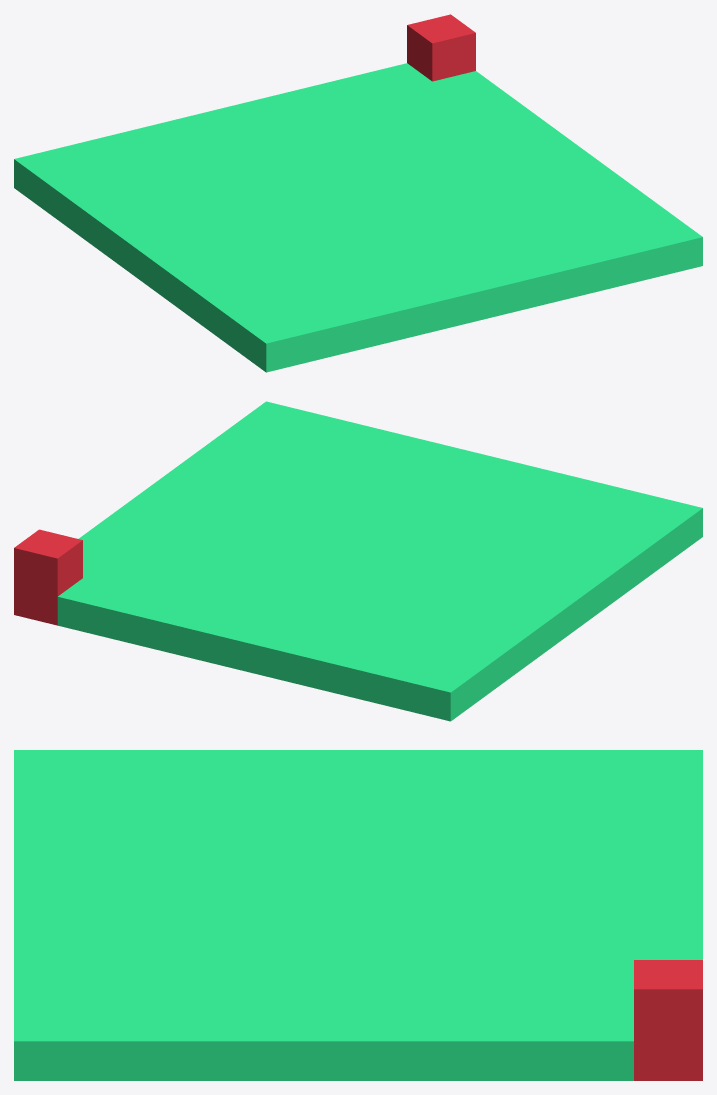
File: innerCorner.fbx
3 renders of one model, top to bottom at view 1: azimuth 30°, elevation 25°; view 2: azimuth 150°, elevation 25°; view 3: azimuth 270°, elevation 25°, orthographic. The views are drawn at different scales.
Visible parts, largest first — view 1: innerCorner; view 2: innerCorner; view 3: innerCorner.
Boxes of the visible parts, box(x1,y1,x2,y2) form: innerCorner: box(14, 14, 702, 372); innerCorner: box(14, 401, 702, 721); innerCorner: box(14, 750, 702, 1080).
Size of the model in its own units: 10 by 1.47 by 10.
